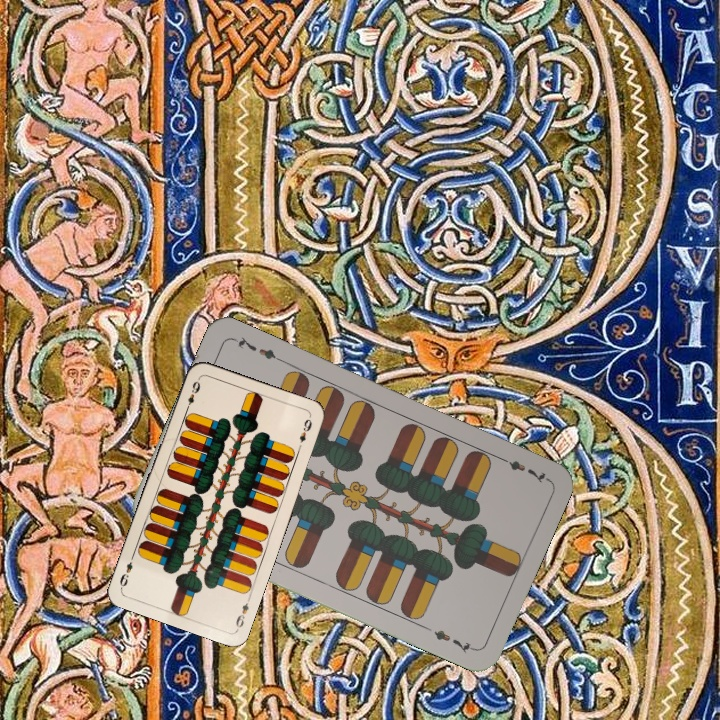E7: (494, 452, 550, 486)
E9: (232, 593, 253, 632), (182, 377, 203, 414)
